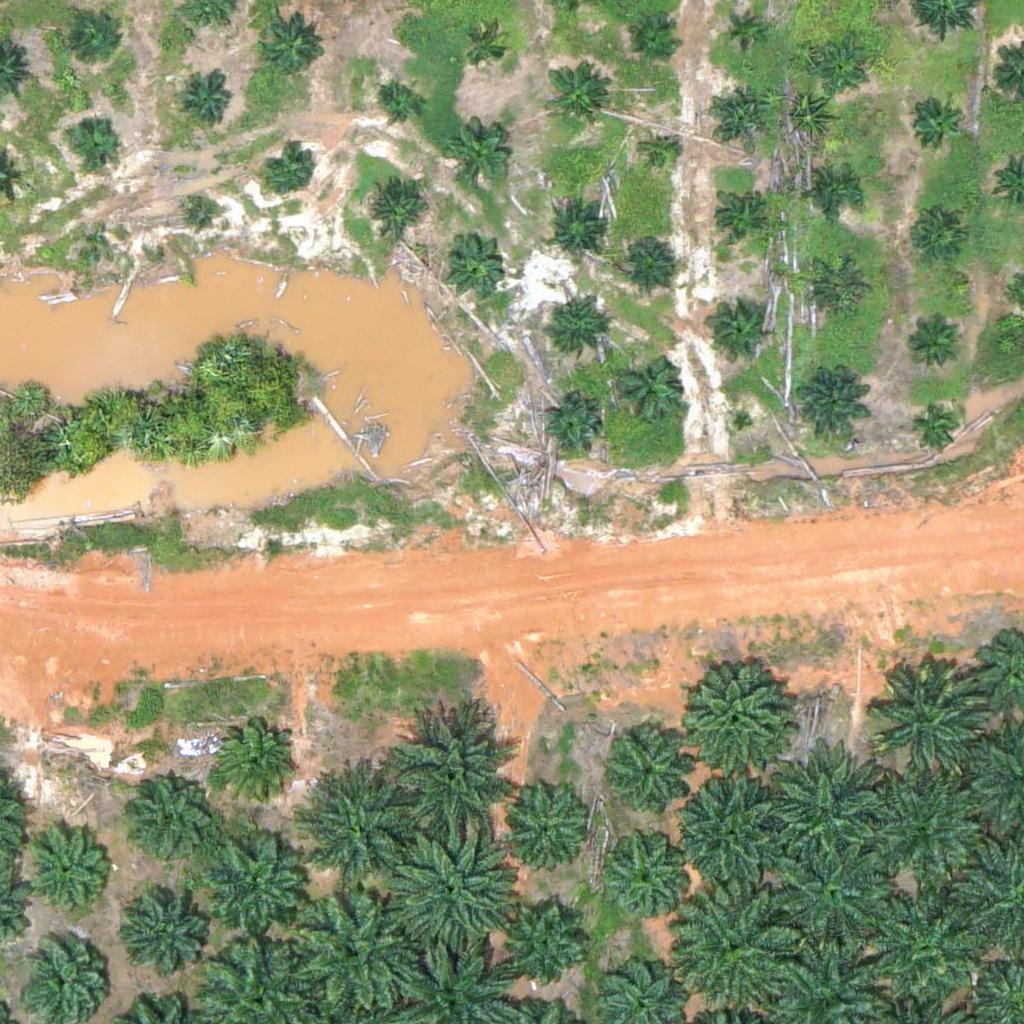Kelapa_Sawit: (869, 656, 994, 782), (861, 764, 986, 890), (866, 892, 991, 1018), (772, 833, 897, 959), (766, 753, 891, 879), (670, 773, 795, 899), (392, 706, 517, 832), (387, 827, 512, 953), (301, 762, 426, 888), (296, 887, 421, 1013), (681, 884, 806, 1009), (675, 659, 788, 773), (208, 834, 308, 935), (495, 775, 595, 875), (130, 775, 218, 863), (23, 830, 111, 918), (607, 831, 694, 919), (606, 732, 693, 820), (500, 904, 587, 992), (210, 718, 297, 806), (124, 894, 211, 982), (794, 364, 869, 440), (608, 351, 683, 427), (707, 81, 770, 144), (444, 122, 507, 185), (541, 299, 604, 362), (440, 231, 503, 294), (708, 300, 771, 363), (540, 396, 603, 459), (543, 63, 605, 126), (260, 11, 322, 74), (807, 259, 869, 322), (363, 176, 425, 239), (548, 201, 610, 263), (615, 229, 677, 291), (813, 46, 863, 97), (908, 97, 958, 148), (67, 112, 117, 163), (71, 13, 121, 64), (912, 210, 962, 261), (808, 168, 858, 218), (182, 78, 232, 128), (263, 145, 313, 195), (907, 321, 957, 371), (712, 191, 762, 241), (913, 402, 963, 452), (628, 16, 678, 66), (459, 25, 509, 75), (374, 82, 424, 132), (644, 137, 682, 175), (723, 12, 760, 50), (188, 198, 213, 223), (93, 232, 118, 257)
